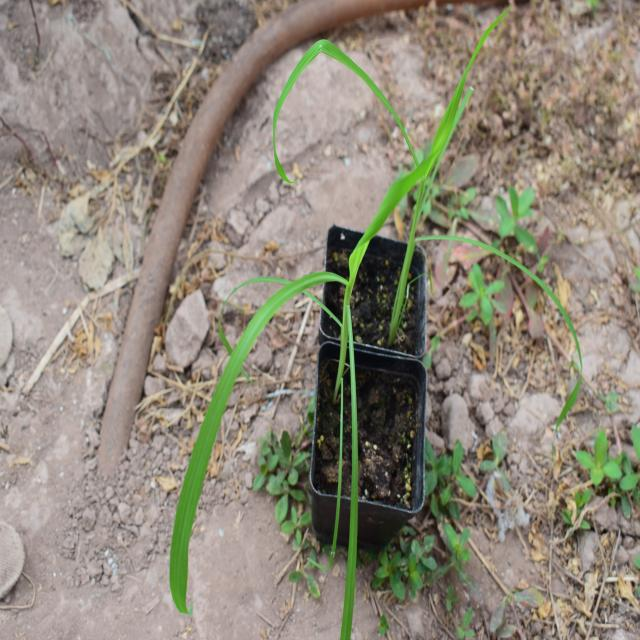barnyard_grass: (116, 54, 504, 552)
